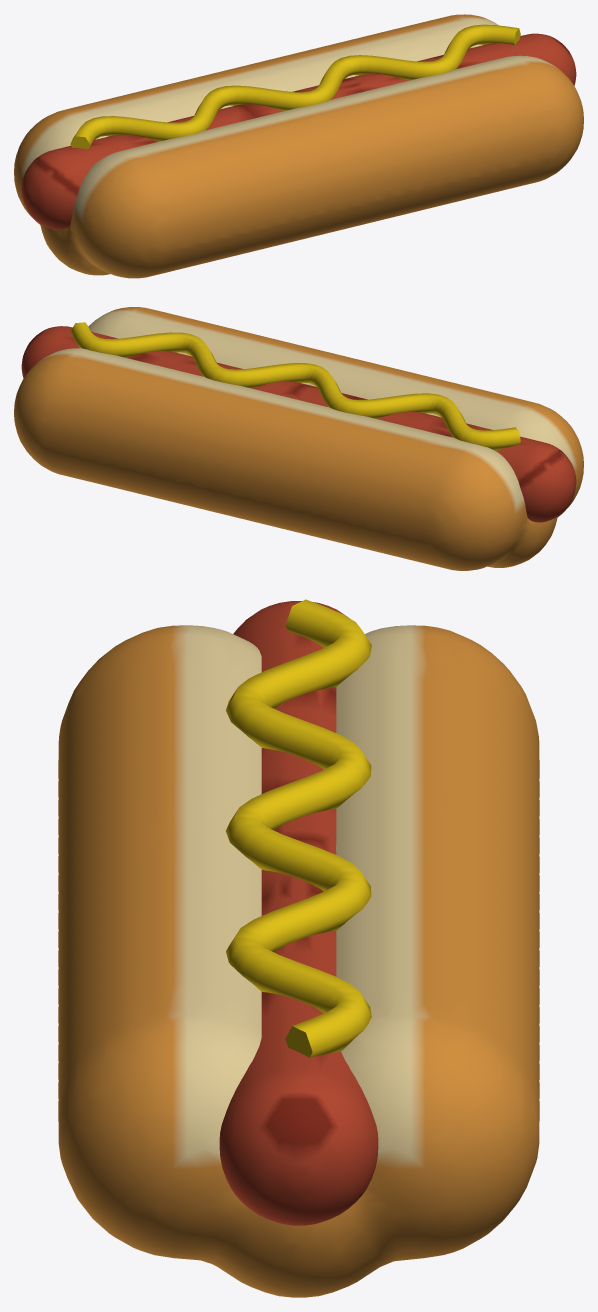
File: hotdog.glb
3 views of the same model, one above another, from view 1: azimuth 30°, elevation 25°; view 2: azimuth 150°, elevation 25°; view 3: azimuth 270°, elevation 25° (orthographic). The views are drawn at different scales.
Visible parts, largest first — view 1: hotdog; view 2: hotdog; view 3: hotdog.
Boxes of the visible parts, left/top/right/bottom form: hotdog: left=14, top=14, right=583, bottom=278; hotdog: left=14, top=307, right=583, bottom=570; hotdog: left=58, top=599, right=539, bottom=1297.
Bounding box in the file's own units: 0.2114 × 0.051 × 0.0811.
